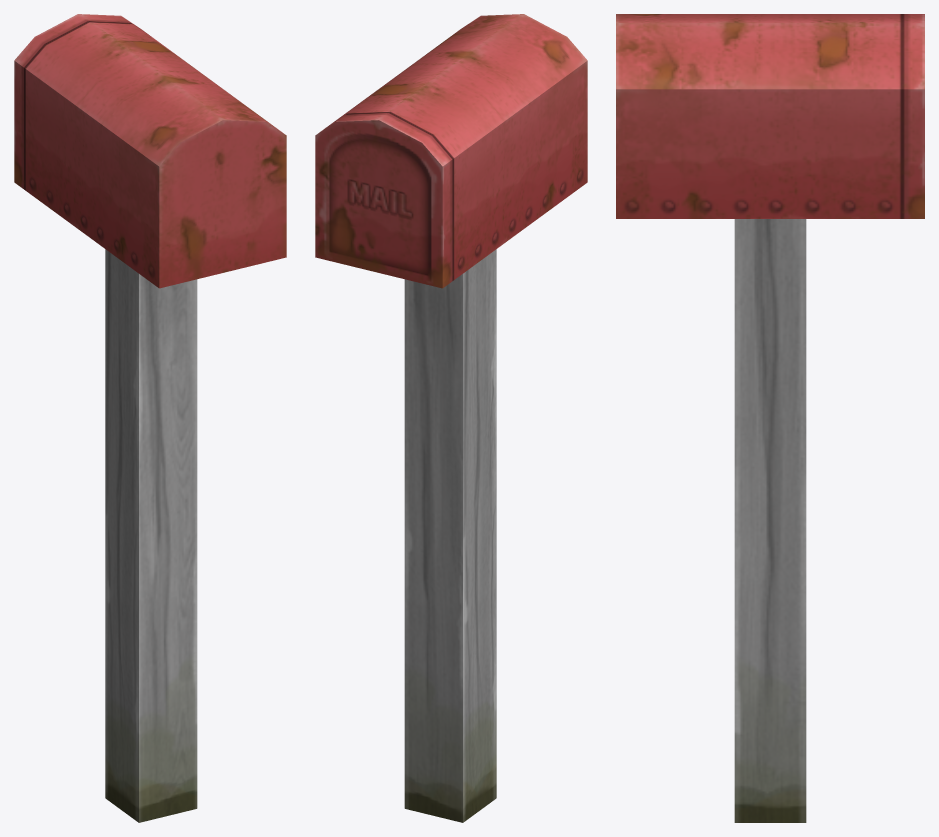
The model's file is FIG0110007.FBX.
3 renders of one model, left to right at view 1: azimuth 30°, elevation 25°; view 2: azimuth 150°, elevation 25°; view 3: azimuth 270°, elevation 25°, orthographic. The views are drawn at different scales.
Parts seen in each view (by area): view 1: smFIG0110007; view 2: smFIG0110007; view 3: smFIG0110007.
Part boxes in pixels (box(x1,y1,x2,y2)): smFIG0110007: box(14, 14, 286, 822); smFIG0110007: box(315, 14, 587, 822); smFIG0110007: box(616, 14, 924, 822).
Size of the model in its own units: 21.86 by 121 by 43.09.
1 material, 1 textured.
